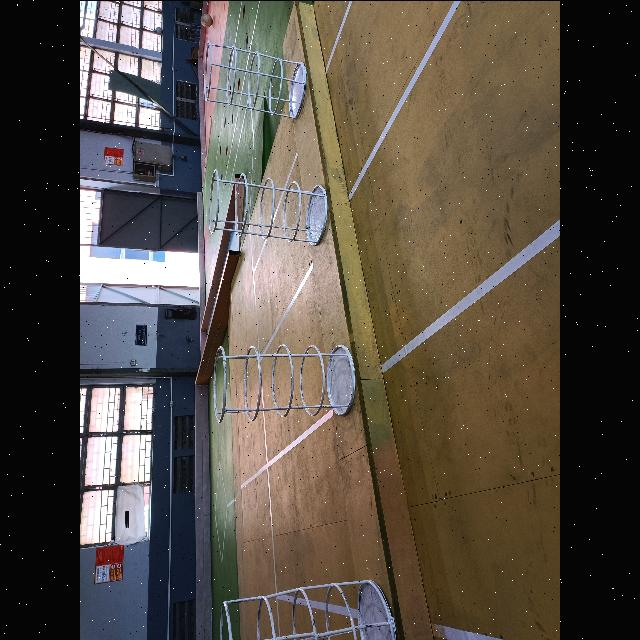S: (207, 342, 357, 425), (215, 575, 399, 640), (208, 167, 329, 247), (201, 40, 307, 121)
